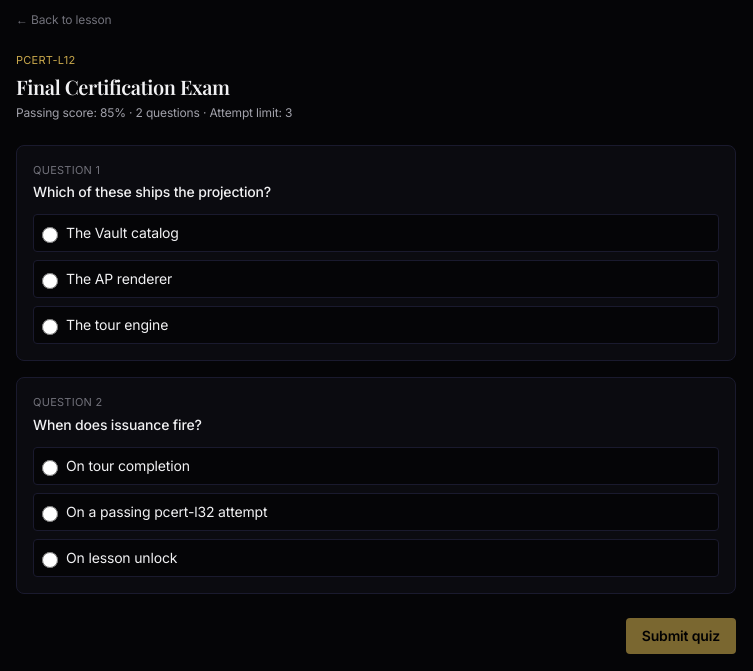
QuizPageClient — result envelope › renders the passed card on 'already_passed' (idempotent server response)
The image size is (753, 671).
Click the radio button labelled "The Vault catalog". click: (50, 235)
box: [42, 227, 58, 243]
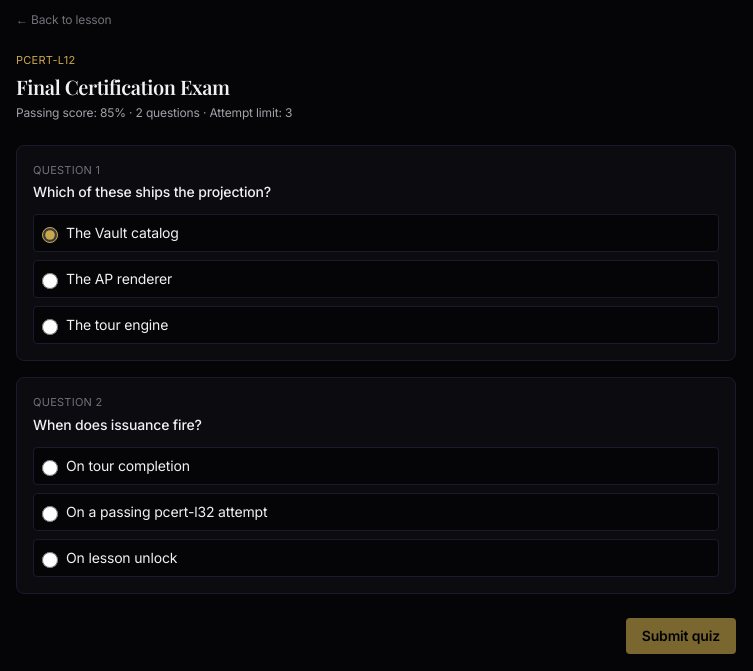
Click the radio button labelled "On a passing pcert-l32 attempt". click: (50, 514)
box: [42, 506, 58, 522]
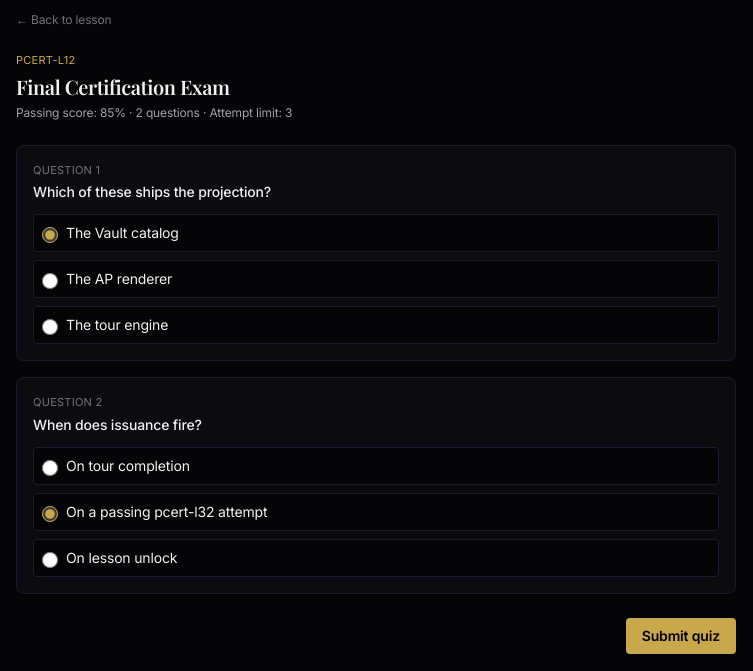
Click the button "Submit quiz". click: (681, 636)
box: [626, 618, 736, 654]
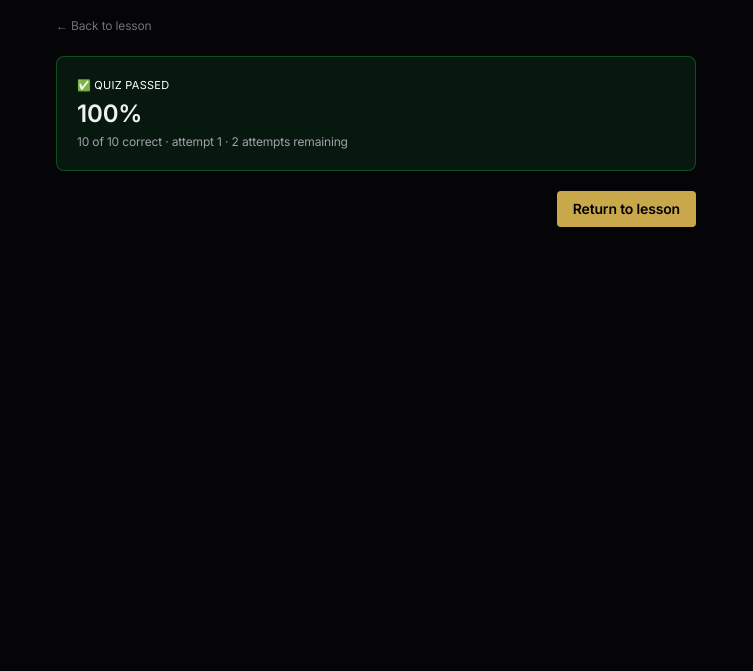
Result: the element that starts with "✅ Quiz passed" is shown at [56, 56, 696, 170]
